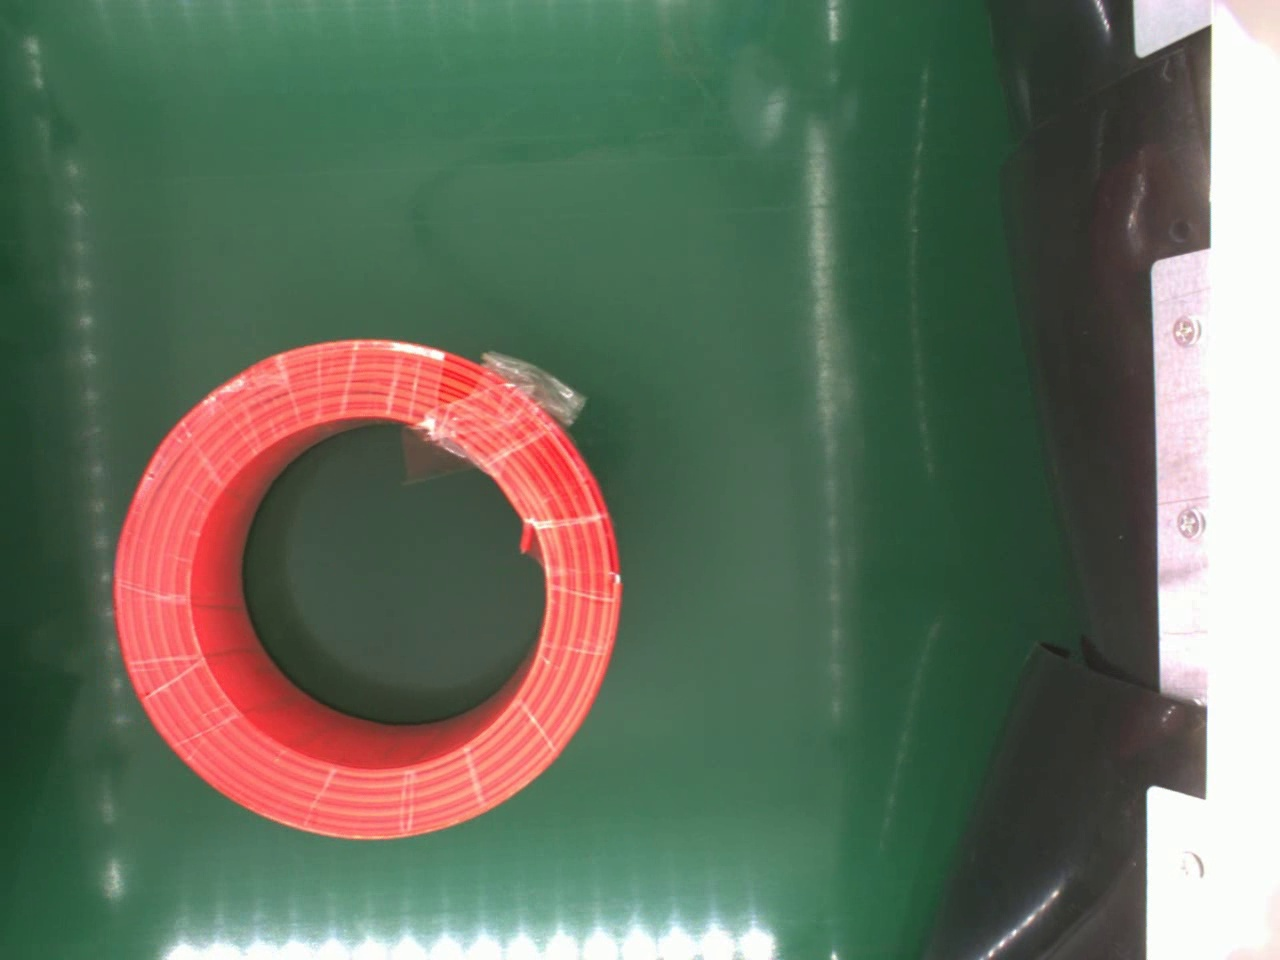red: (108, 330, 620, 843)
